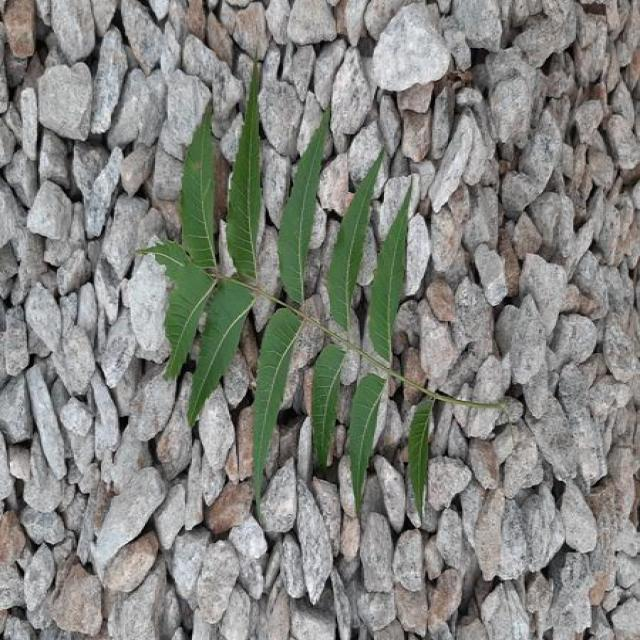neem: (143, 80, 262, 422), (253, 115, 328, 496), (328, 160, 379, 334), (367, 195, 408, 371), (348, 372, 388, 501), (313, 344, 345, 466), (410, 404, 430, 502)
